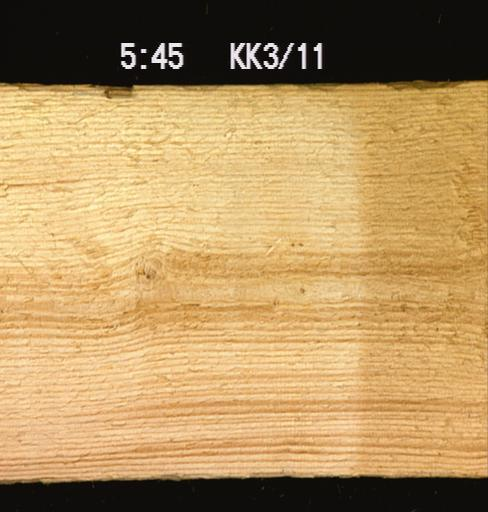wave: (0, 81, 136, 92)
